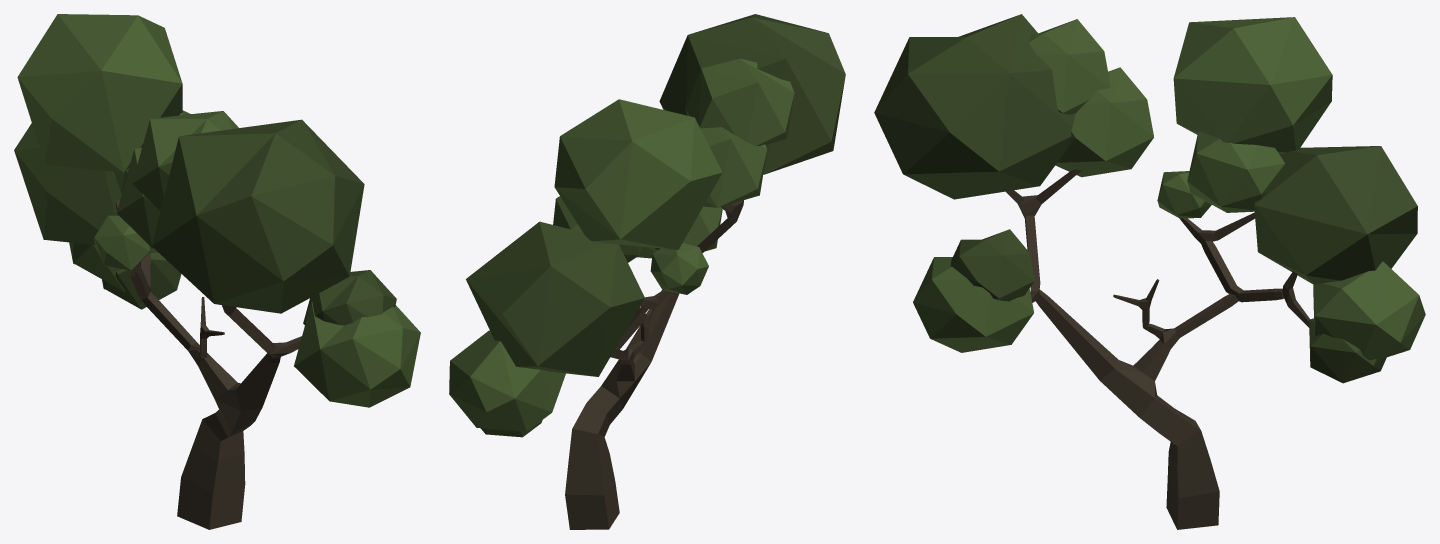
File: ExportedBlenderFBXFile.fbx
3 views of the same model, side by side, from view 1: azimuth 30°, elevation 25°; view 2: azimuth 150°, elevation 25°; view 3: azimuth 270°, elevation 25° (orthographic). The views are drawn at different scales.
Parts seen in each view (by area): view 1: Icosphere_001, Icosphere_007, Cube, Icosphere_002, Icosphere_006, Icosphere_003, Icosphere_004, Icosphere_008, Icosphere, Icosphere_009, Icosphere_010; view 2: Icosphere_006, Icosphere_007, Icosphere_001, Cube, Icosphere_010, Icosphere_003, Icosphere, Icosphere_008, Icosphere_002, Icosphere_005; view 3: Icosphere_001, Icosphere_006, Icosphere_007, Cube, Icosphere_010, Icosphere_002, Icosphere, Icosphere_005, Icosphere_003, Icosphere_004, Icosphere_009, Icosphere_008.
Boxes of the visible parts, bbox=[...] form: Icosphere_001: bbox=[152, 119, 364, 313]; Icosphere_007: bbox=[17, 14, 182, 172]; Cube: bbox=[116, 200, 301, 529]; Icosphere_002: bbox=[294, 302, 420, 407]; Icosphere_006: bbox=[14, 123, 121, 244]; Icosphere_003: bbox=[132, 111, 238, 211]; Icosphere_004: bbox=[303, 270, 396, 325]; Icosphere_008: bbox=[94, 215, 151, 270]; Icosphere: bbox=[117, 147, 160, 248]; Icosphere_009: bbox=[102, 252, 181, 309]; Icosphere_010: bbox=[69, 242, 158, 291]; Icosphere_006: bbox=[466, 221, 644, 376]; Icosphere_007: bbox=[554, 99, 722, 250]; Icosphere_001: bbox=[659, 14, 845, 174]; Cube: bbox=[565, 200, 743, 529]; Icosphere_010: bbox=[449, 330, 565, 431]; Icosphere_003: bbox=[685, 58, 794, 145]; Icosphere: bbox=[700, 127, 767, 207]; Icosphere_008: bbox=[650, 243, 708, 294]; Icosphere_002: bbox=[637, 206, 722, 258]; Icosphere_005: bbox=[553, 196, 642, 262]; Icosphere_001: bbox=[874, 14, 1075, 199]; Icosphere_006: bbox=[1254, 146, 1417, 284]; Icosphere_007: bbox=[1173, 17, 1332, 154]; Cube: bbox=[1006, 169, 1309, 529]; Icosphere_010: bbox=[1313, 261, 1425, 360]; Icosphere_002: bbox=[913, 257, 1033, 352]; Icosphere: bbox=[1055, 67, 1153, 177]; Icosphere_005: bbox=[1187, 131, 1285, 212]; Icosphere_003: bbox=[1028, 19, 1110, 114]; Icosphere_004: bbox=[950, 229, 1034, 301]; Icosphere_009: bbox=[1309, 318, 1386, 383]; Icosphere_008: bbox=[1157, 171, 1211, 218].
Size of the model in its own units: 8.75 by 16.8 by 17.93.
